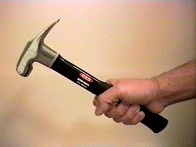hammer: (15, 19, 168, 133)
